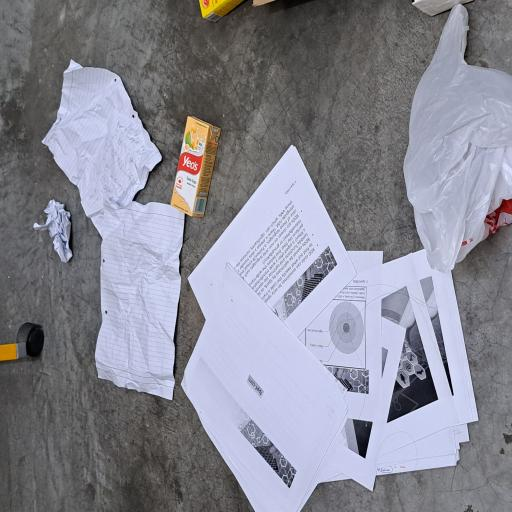drink carton: (222, 227, 298, 296), (368, 264, 384, 331)
paper: (0, 238, 277, 512), (205, 54, 340, 217), (84, 126, 233, 245), (187, 44, 234, 98)
